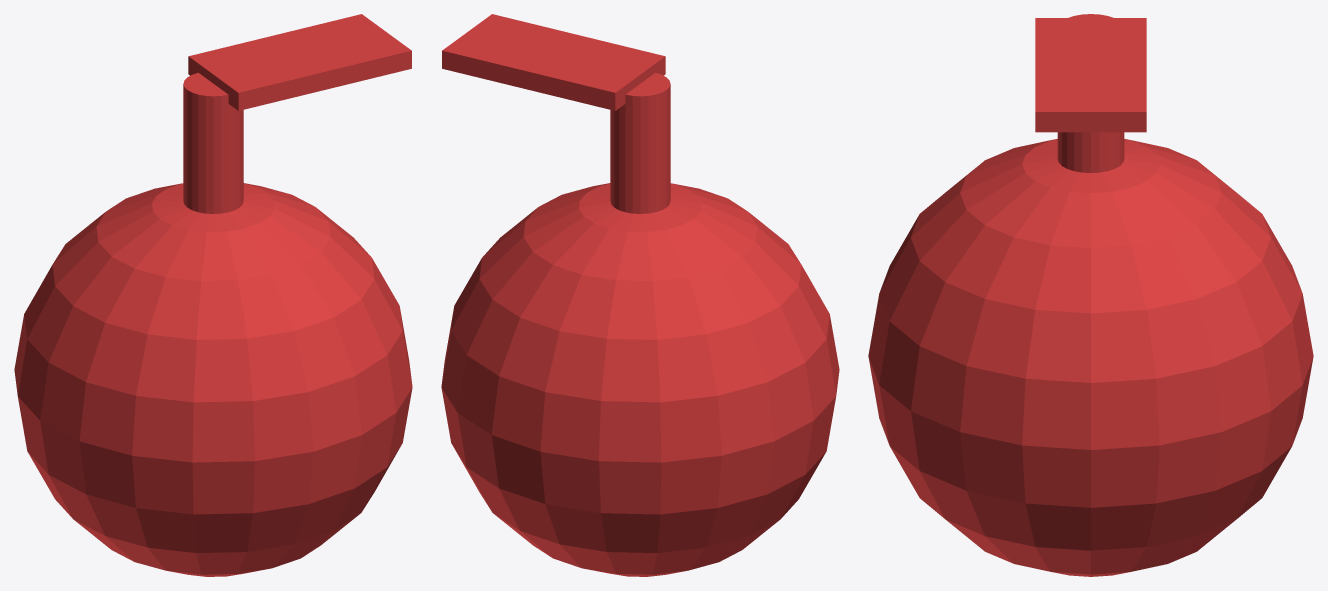
The model's file is g_apple.glb.
3 views of the same model, side by side, from view 1: azimuth 30°, elevation 25°; view 2: azimuth 150°, elevation 25°; view 3: azimuth 270°, elevation 25° (orthographic). The views are drawn at different scales.
Parts seen in each view (by area): view 1: g_apple; view 2: g_apple; view 3: g_apple.
Boxes of the visible parts, x1=… form: g_apple: x1=14, y1=14, x2=412, y2=576; g_apple: x1=441, y1=14, x2=839, y2=576; g_apple: x1=868, y1=14, x2=1313, y2=576.
Bounding box in the file's own units: 0.08 × 0.107 × 0.08.
